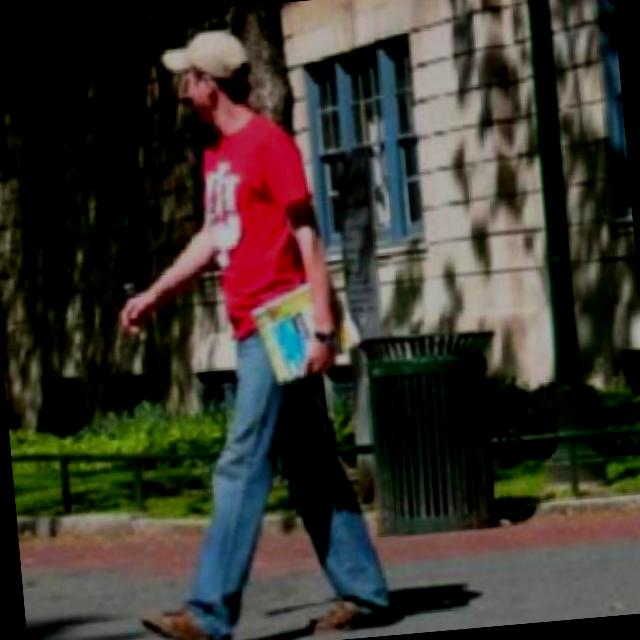Person: (90, 10, 396, 640)
